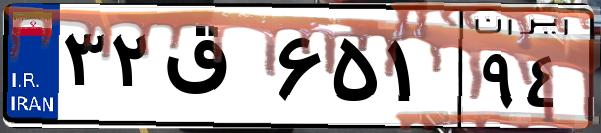1: (385, 28, 445, 110)
2: (110, 28, 158, 98)
3: (57, 26, 110, 100)
4: (525, 38, 570, 115)
5: (330, 28, 385, 110)
6: (270, 28, 330, 110)
9: (475, 38, 525, 113)
ق: (158, 20, 270, 120)
